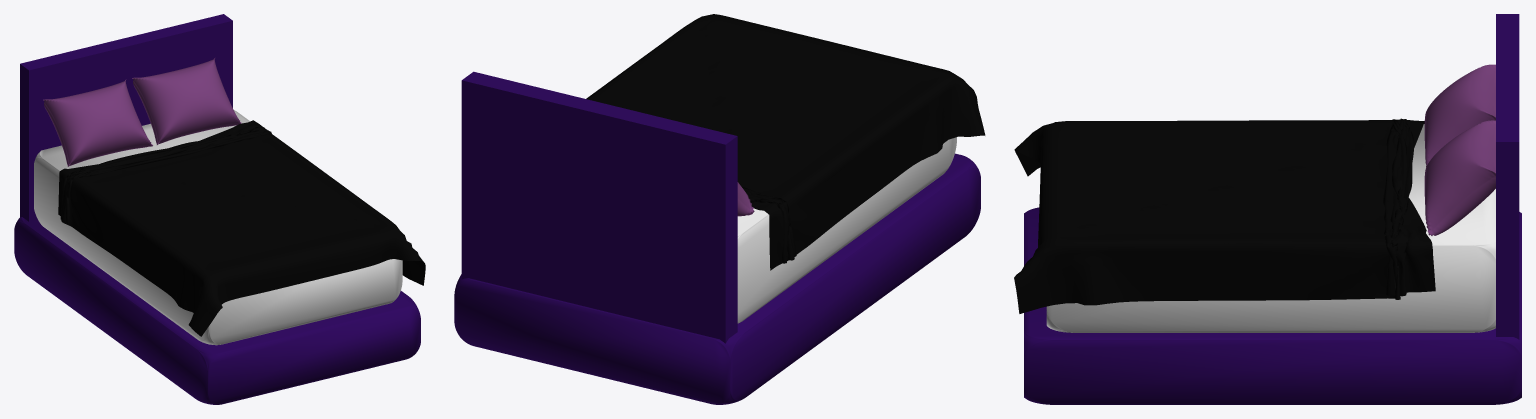
The model's file is BedDesignC.glb.
3 views of the same model, side by side, from view 1: azimuth 30°, elevation 25°; view 2: azimuth 150°, elevation 25°; view 3: azimuth 270°, elevation 25° (orthographic). The views are drawn at different scales.
Visible parts, largest first — view 1: Duvet, Mattress.003, Mattress.002, Cube, Pillow.002, Pillow.003; view 2: Cube, Duvet, Mattress.003, Mattress.002; view 3: Duvet, Mattress.003, Mattress.002, Cube, Pillow.003, Pillow.002.
Part boxes in pixels (x1,y1,x2,y2): Duvet: [58, 120, 425, 336]; Mattress.003: [14, 217, 420, 404]; Mattress.002: [34, 110, 402, 345]; Cube: [20, 14, 232, 221]; Pillow.002: [43, 79, 152, 166]; Pillow.003: [132, 58, 241, 144]; Cube: [461, 71, 737, 343]; Duvet: [586, 14, 985, 270]; Mattress.003: [454, 153, 980, 404]; Mattress.002: [737, 137, 956, 323]; Duvet: [1014, 118, 1435, 313]; Mattress.003: [1024, 207, 1521, 404]; Mattress.002: [1046, 124, 1495, 332]; Cube: [1496, 14, 1519, 339]; Pillow.003: [1424, 120, 1495, 235]; Pillow.002: [1424, 64, 1495, 166].
Size of the model in its own units: 1.74 by 1.49 by 2.64.
